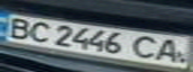2: (48, 21, 75, 48)
4: (87, 28, 109, 53), (69, 26, 90, 51)
6: (103, 30, 130, 56)
A: (151, 37, 190, 64)
B: (0, 15, 36, 39)
C: (127, 34, 163, 61), (21, 19, 57, 44)
